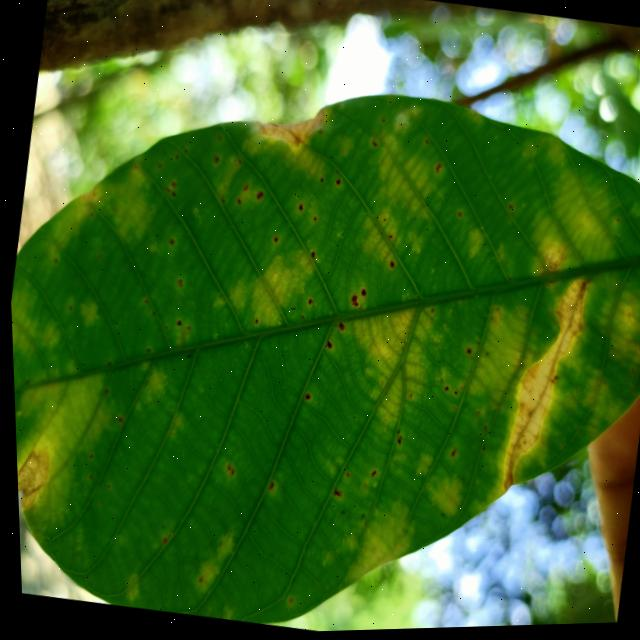Colletotrichum: (255, 101, 325, 156), (253, 192, 263, 203), (333, 323, 342, 334), (322, 343, 331, 353), (460, 349, 469, 359), (356, 290, 365, 299), (385, 262, 393, 271), (300, 393, 308, 402), (303, 299, 311, 308), (332, 181, 340, 189), (307, 252, 314, 261), (296, 206, 302, 213), (270, 237, 276, 244), (250, 320, 256, 327), (173, 321, 179, 328), (310, 217, 315, 223), (317, 180, 322, 185)
Leaf-Blight: (489, 271, 594, 503), (13, 442, 49, 514)
